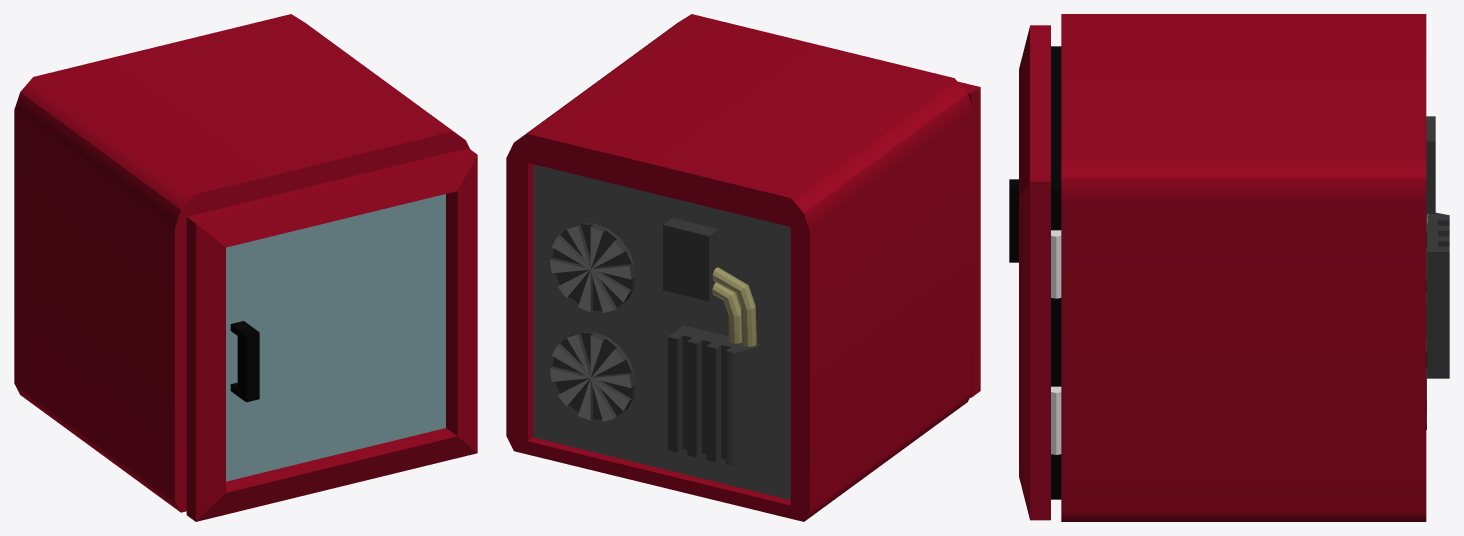
Rendered from SM_MiniFirdge.fbx.
3 renders of one model, left to right at view 1: azimuth 30°, elevation 25°; view 2: azimuth 150°, elevation 25°; view 3: azimuth 270°, elevation 25°, orthographic. The views are drawn at different scales.
Parts seen in each view (by area): view 1: pCube1; view 2: pCube1; view 3: pCube1.
Boxes of the visible parts, <box> form: pCube1: <box>14,14,477,521</box>; pCube1: <box>506,14,980,521</box>; pCube1: <box>1009,14,1449,521</box>.
Size of the model in its own units: 4.15 by 4.37 by 4.68.
